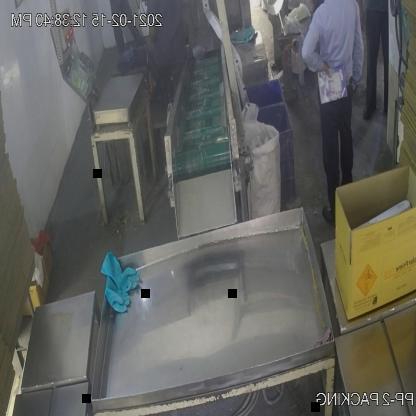glove: (98, 249, 140, 318)
no_glove: (298, 13, 330, 82)
